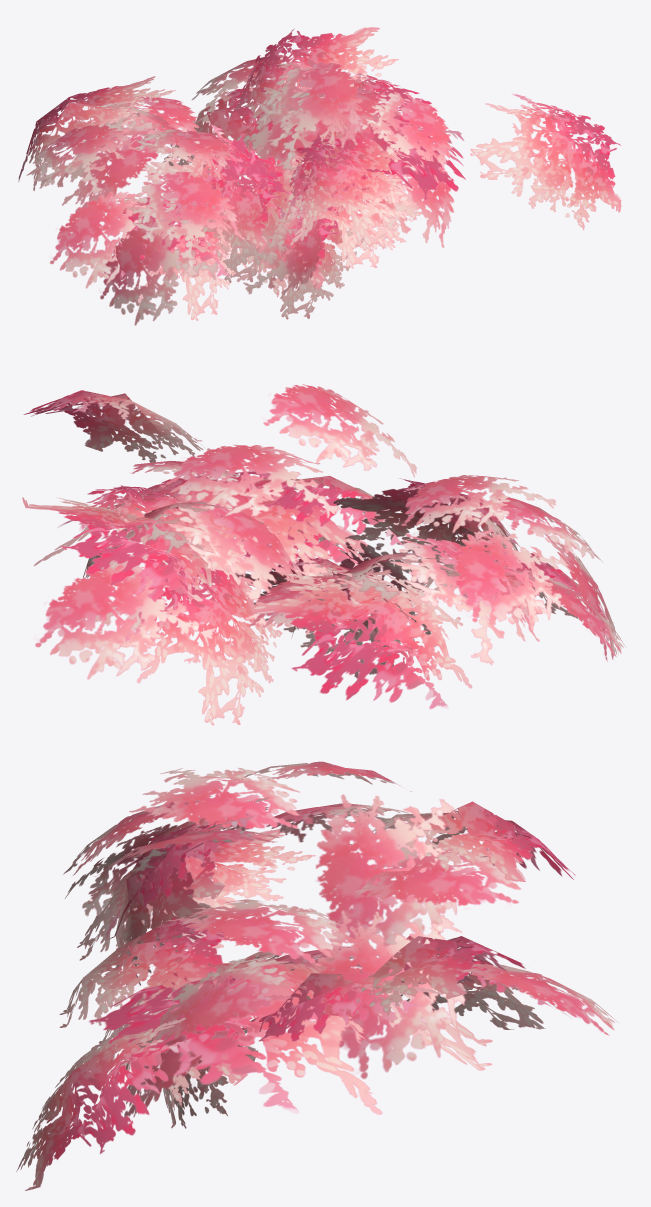
File: tree_leafage.glb
The picture shows the model from 3 angles, top to bottom: view 1: azimuth 30°, elevation 25°; view 2: azimuth 150°, elevation 25°; view 3: azimuth 270°, elevation 25°; orthographic projection. The views are drawn at different scales.
Parts seen in each view (by area): view 1: Tree_20, Tree_1.002, Tree_23, Tree_1.005, Tree_19, Tree_7.004, Tree_1.001, Tree_9.004, Tree_1, Tree_10.004, Tree_9.005, Tree_12 (+17 smaller); view 2: Tree_1, Tree_10.001, Tree_9.001, Tree_1.001, Tree_12, Tree_21, Tree_7.002, Tree_7.001, Tree_23, Tree_20, Tree_7, Tree_1.005 (+17 smaller); view 3: Tree_12, Tree_17, Tree_20, Tree_17.001, Tree_1.002, Tree_7.005, Tree_1, Tree_7.002, Tree_9, Tree_9.005, Tree_1.001, Tree_1.004 (+14 smaller).
Part boxes in pixels (box(x1,y1,x2,y2)): Tree_20: box(470, 94, 621, 229); Tree_1.002: box(280, 133, 420, 250); Tree_23: box(258, 59, 362, 171); Tree_1.005: box(175, 133, 308, 282); Tree_19: box(127, 171, 244, 276); Tree_7.004: box(100, 216, 218, 325); Tree_1.001: box(230, 27, 398, 147); Tree_9.004: box(50, 191, 150, 288); Tree_1: box(18, 76, 175, 190); Tree_10.004: box(141, 124, 289, 260); Tree_9.005: box(360, 91, 451, 182); Tree_12: box(251, 112, 466, 215); Tree_1: box(247, 572, 472, 709); Tree_10.001: box(120, 555, 282, 725); Tree_9.001: box(35, 564, 214, 679); Tree_1.001: box(22, 497, 219, 623); Tree_12: box(34, 471, 367, 635); Tree_21: box(452, 525, 572, 631); Tree_7.002: box(159, 444, 340, 518); Tree_7.001: box(168, 495, 302, 626); Tree_23: box(263, 384, 416, 477); Tree_20: box(23, 390, 210, 464); Tree_7: box(389, 533, 539, 665); Tree_1.005: box(333, 478, 521, 597); Tree_12: box(88, 963, 492, 1114); Tree_17: box(315, 794, 462, 946); Tree_20: box(16, 1017, 194, 1190); Tree_17.001: box(317, 910, 465, 1079); Tree_1.002: box(59, 918, 250, 1027); Tree_7.005: box(129, 767, 300, 831); Tree_1: box(350, 801, 575, 881); Tree_7.002: box(167, 899, 349, 965); Tree_9: box(333, 839, 523, 908); Tree_9.005: box(138, 957, 291, 1044); Tree_1.001: box(314, 935, 525, 1021); Tree_1.004: box(105, 828, 315, 954).
Bounding box in the file's own units: 5.27 × 2.22 × 3.8.
Materials: 1 (1 with a texture image).
